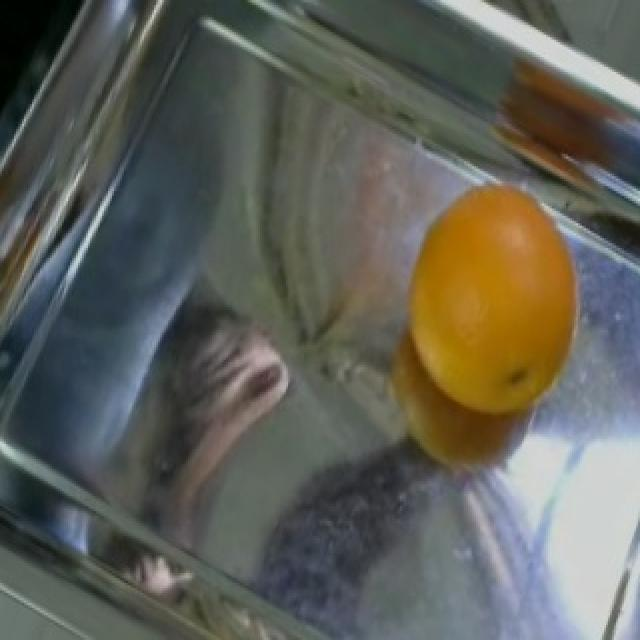Fruit: (370, 166, 600, 489), (96, 288, 314, 533)
